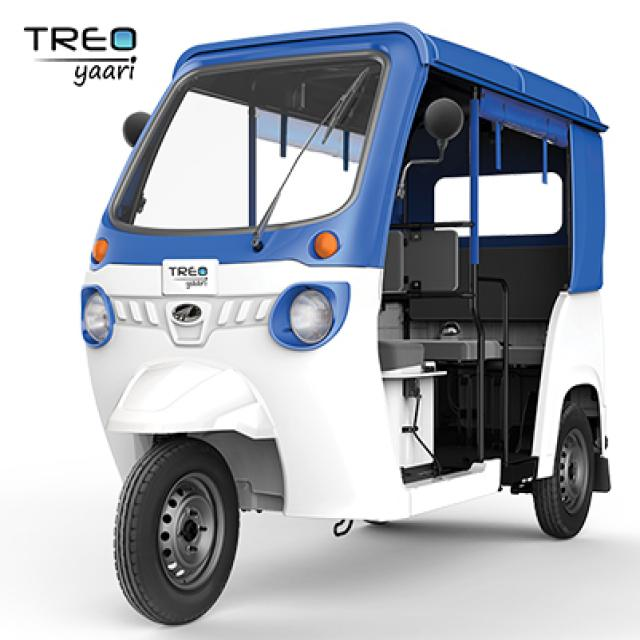autorickshaw: (81, 24, 610, 624)
